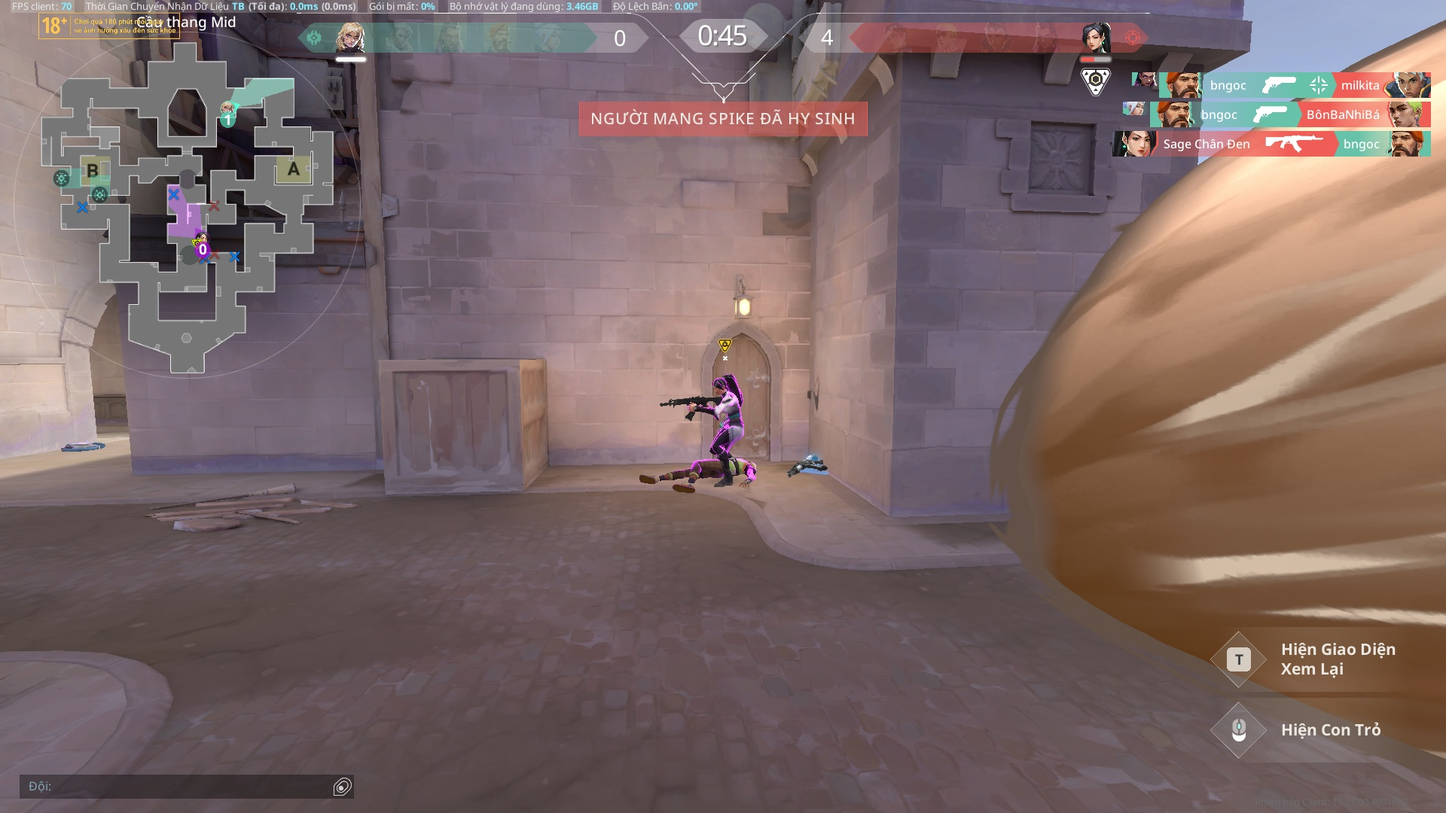body: (718, 393, 743, 423)
head: (712, 378, 728, 394)
